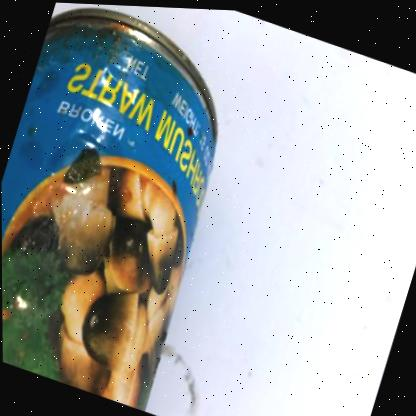Metal: (1, 6, 215, 409)
